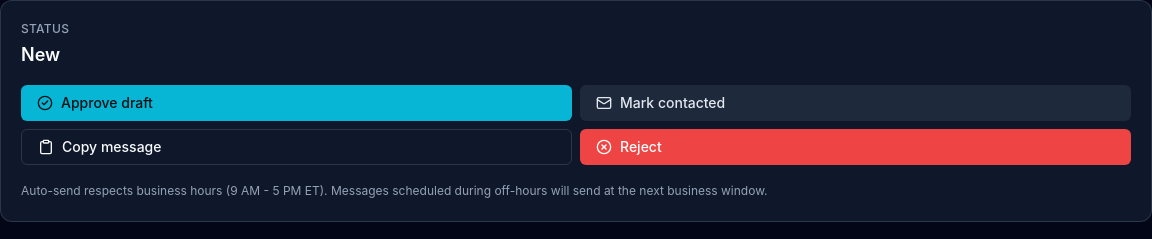
Test: ReviewPanel › sets status to approved when "Approve draft" is clicked
Click the button "Approve draft". click: [107, 102]
box: x1=21 y1=85 x2=572 y2=121
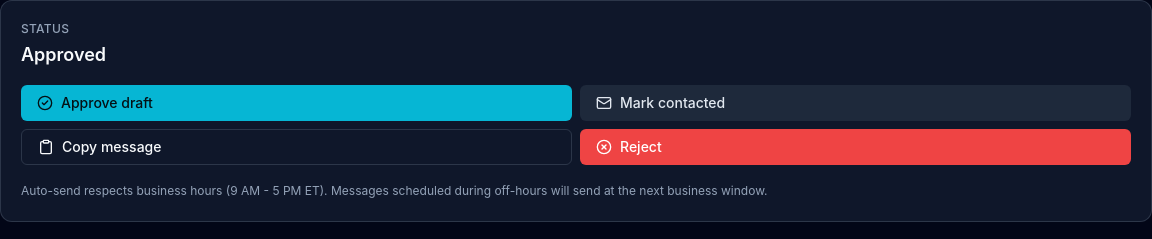
expect the text "approved" is shown: met, box x1=21 y1=44 x2=106 y2=65
